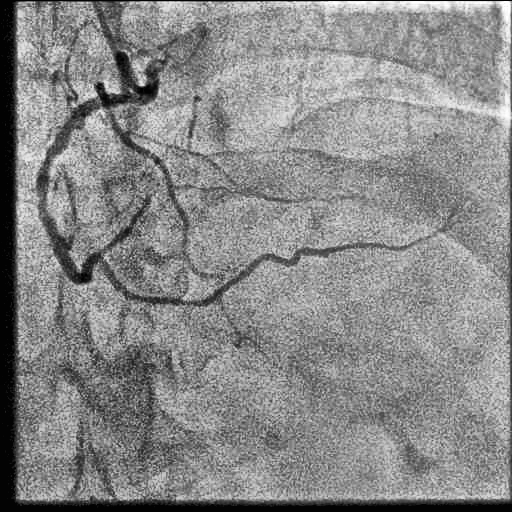pborca: (100, 198, 149, 254)
pda: (101, 227, 445, 306)
rca: (36, 93, 131, 284)
